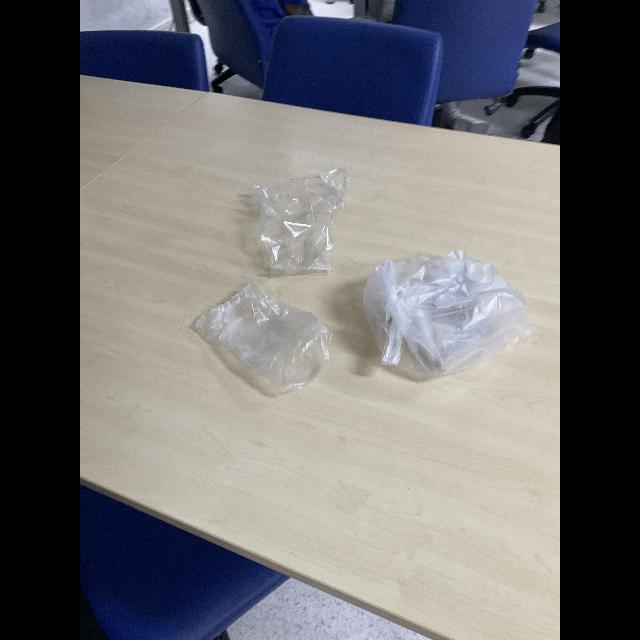plastic_bag: (370, 235, 526, 392)
scrap_plastic: (191, 282, 337, 400), (228, 160, 358, 276)
